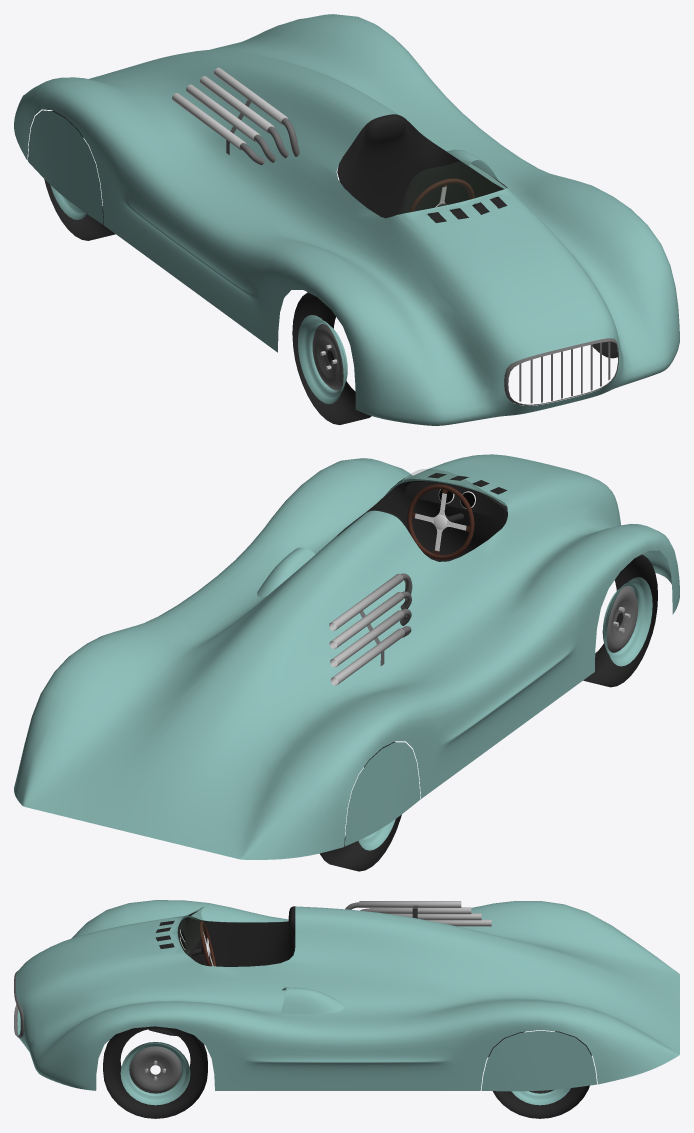
File: car.glb
The picture shows the model from 3 angles, top to bottom: view 1: azimuth 30°, elevation 25°; view 2: azimuth 150°, elevation 25°; view 3: azimuth 270°, elevation 25°; orthographic projection. The views are drawn at different scales.
Visible parts, largest first — view 1: body, int, pneu, Cylinder, rim, grille, hub; view 2: body, pneu, int, Cylinder, rim, steering, hub, board, body.001; view 3: body, pneu, int, rim, Cylinder, hub, body.001, steering.
Part boxes in pixels (x1,y1,x2,y2): body: (14,14,679,425); int: (337,114,503,218); pneu: (44,111,617,424); Cylinder: (172,67,288,150); rim: (50,185,347,404); grille: (504,338,618,405); hub: (312,324,343,390); body: (14,454,679,859); pneu: (319,554,657,871); int: (338,481,507,561); Cylinder: (329,573,404,685); rim: (358,577,652,850); steering: (407,484,474,559); hub: (607,586,637,652); board: (405,481,504,519); body.001: (257,547,315,597); body: (15,900,679,1091); pneu: (103,1026,591,1118); int: (148,906,295,1036); rim: (120,1042,570,1105); Cylinder: (359,901,491,926); hub: (129,1046,553,1093); body.001: (280,987,344,1014); steering: (186,921,216,966).
Bounding box in the file's own units: 1.64 × 0.97 × 3.81.
